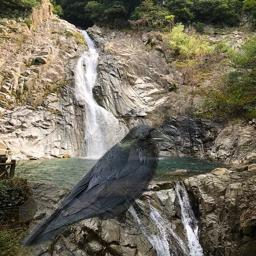Crow: (19, 124, 175, 250)
